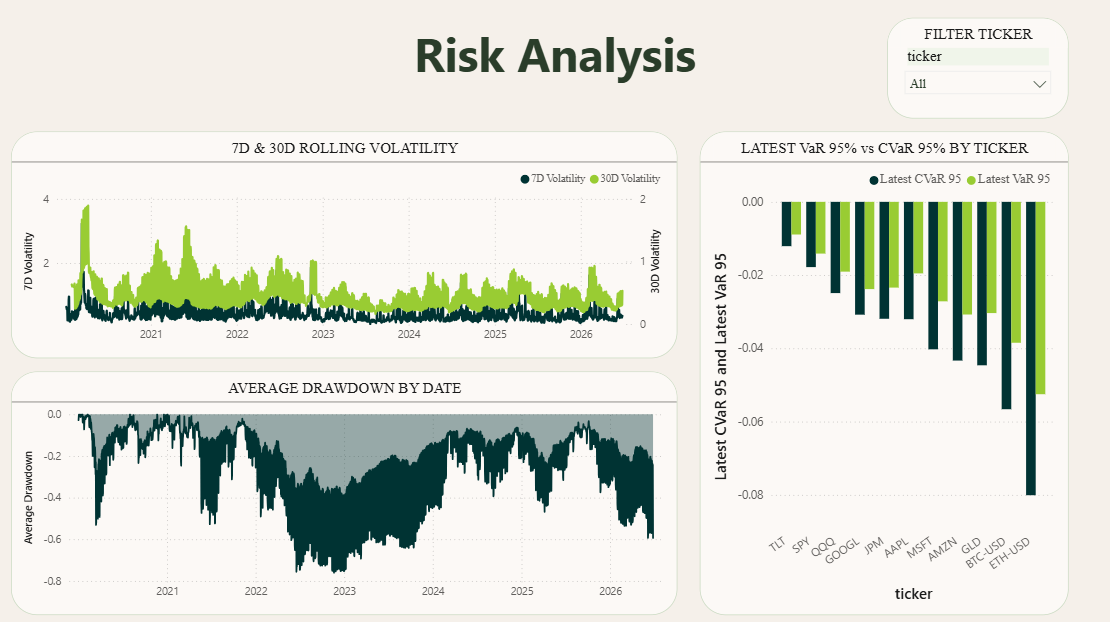

Layout of this report page (visuals, bound fields, positions):
{"tool":"powerbi","page":{"name":"Risk Analysis","canvas":[1280,720],"ordinal":1},"visuals":[{"type":"lineChart","title":"7D & 30D ROLLING VOLATILITY","fields":{"Category":["asset_returns.date"],"Y":["asset_returns.7D Volatility"],"Y2":["asset_returns.30D Volatility"]},"box":[17.8,150.9,761.6,259.3],"z":0},{"type":"slicer","title":"FILTER TICKER","fields":{"Values":["asset_returns.ticker"]},"box":[1018.2,22,207.2,115.3],"z":1000},{"type":"areaChart","title":"AVERAGE DRAWDOWN BY DATE","fields":{"Y":["Avg(asset_returns.drawdown)"],"Category":["asset_returns.date"]},"box":[17.8,425.4,761.6,278.6],"z":2000},{"type":"clusteredColumnChart","title":"LATEST VaR 95% vs CVaR 95% BY TICKER","fields":{"Category":["risk_scores.ticker"],"Y":["risk_scores.Latest CVaR 95","risk_scores.Latest VaR 95"]},"box":[804.1,150.9,421.3,553],"z":3000},{"type":"textbox","box":[336.2,22,606.5,93.3],"z":4000}]}

Visuals, with their boxes in screenshot pixels (x1, y1, x2, y2), scaled from the page's 1280x720 canvas onto the 1110x622 screenshot:
"7D & 30D ROLLING VOLATILITY" lineChart: select_region(15, 130, 676, 354)
"FILTER TICKER" slicer: select_region(883, 19, 1063, 119)
"AVERAGE DRAWDOWN BY DATE" areaChart: select_region(15, 367, 676, 608)
"LATEST VaR 95% vs CVaR 95% BY TICKER" clusteredColumnChart: select_region(697, 130, 1063, 608)
textbox: select_region(292, 19, 817, 100)
